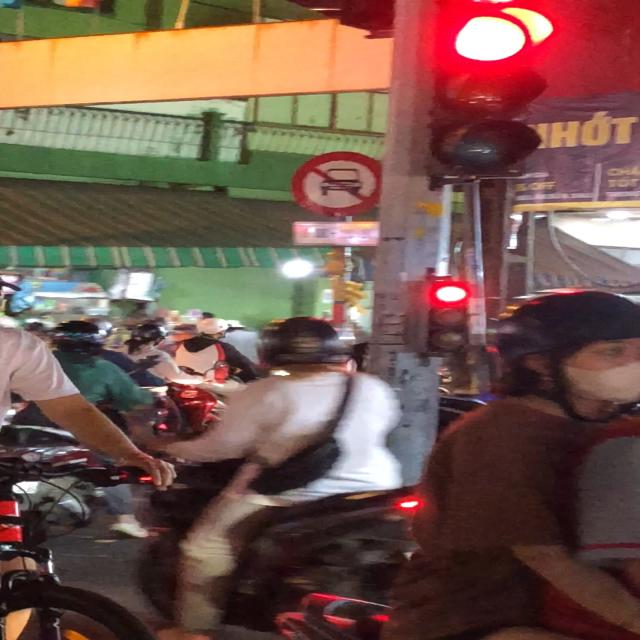Bien bao cam xe oto: (284, 150, 388, 219)
